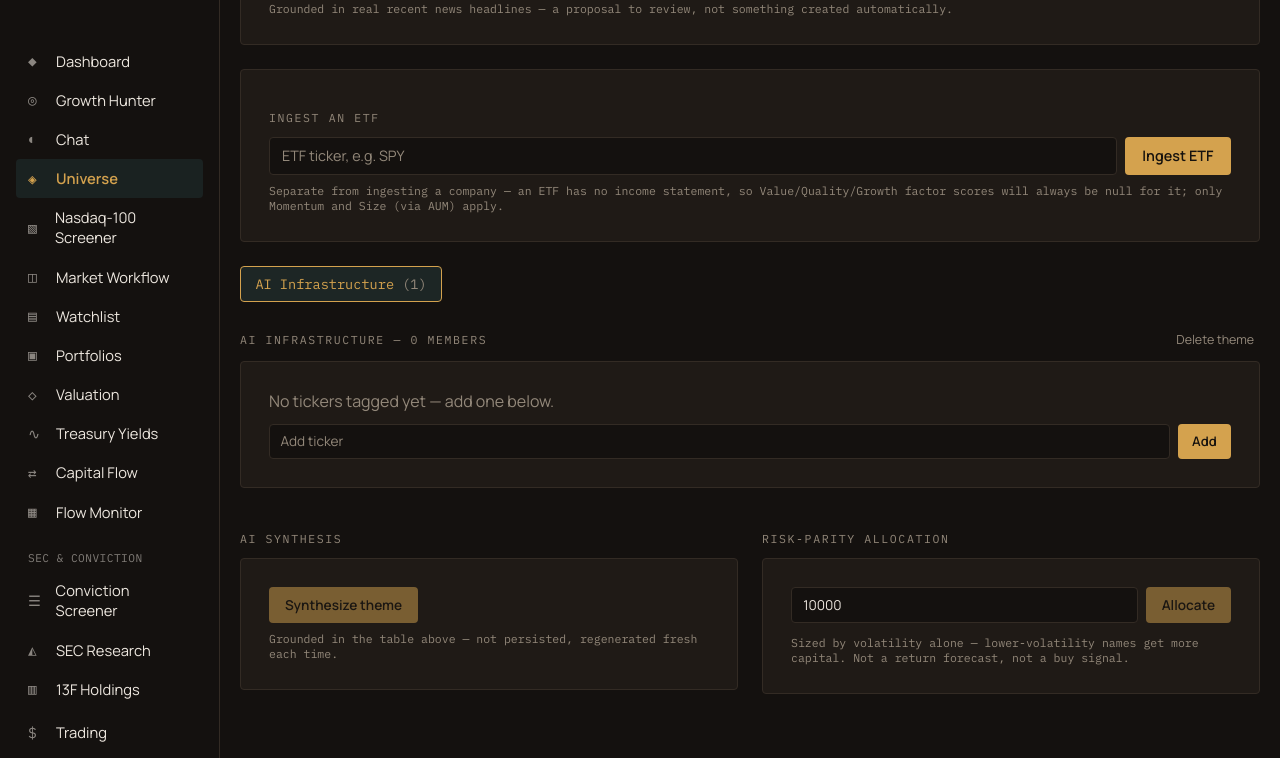
Test: Universe — add ticker to theme › a genuinely different error (not the not-ingested case) shows as a plain error, not the ingest offer
(page scrolled)
Type "XYZ" into the field with placeholder "Add ticker". click: (719, 442)
box: x1=269 y1=424 x2=1170 y2=459
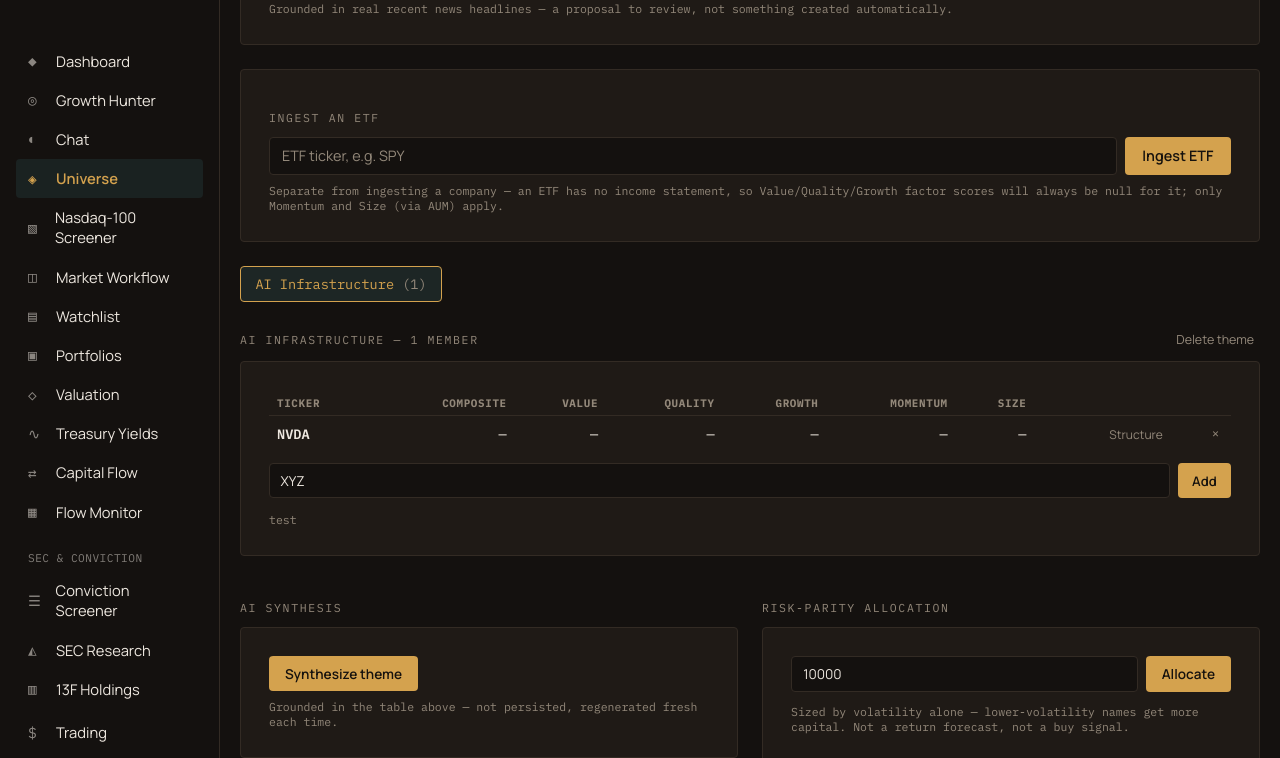
Click the button "Add". click: (1204, 481)
box: x1=1178 y1=463 x2=1231 y2=498
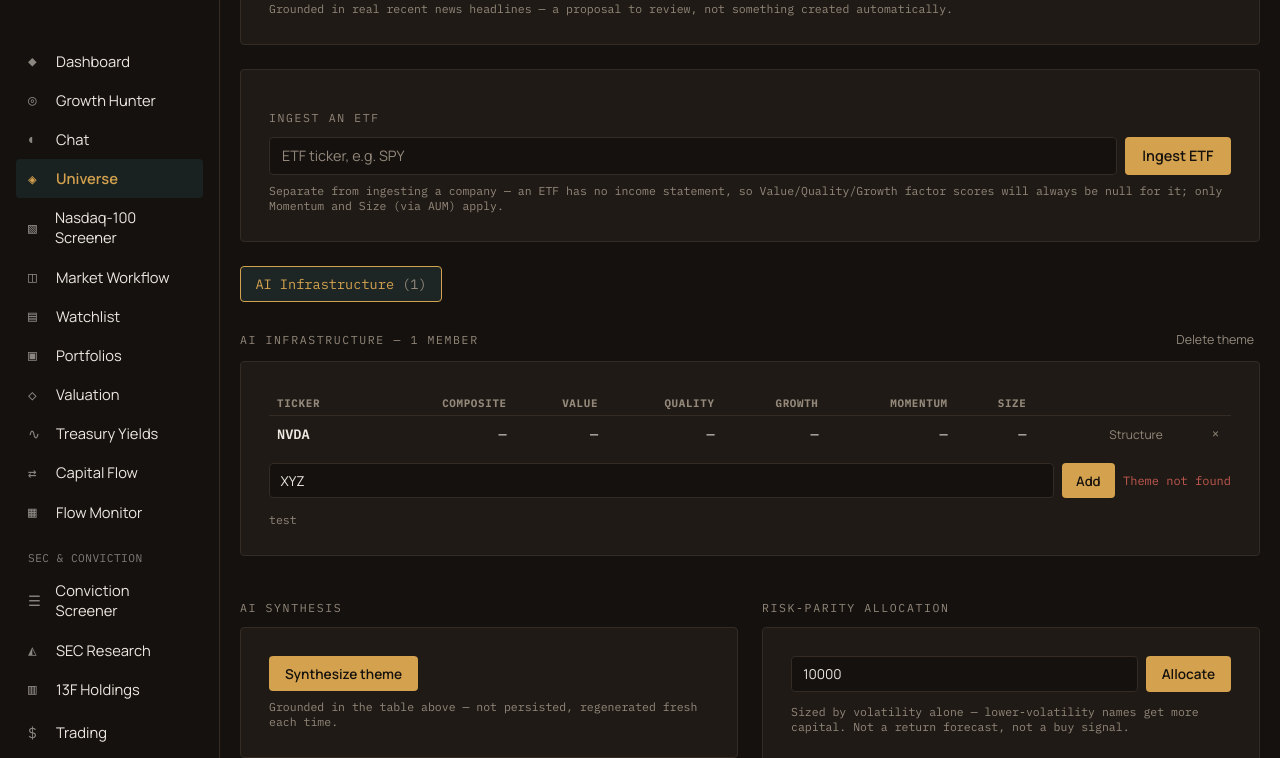
Check: the text "Theme not found" is shown, box x1=1123 y1=473 x2=1231 y2=488
